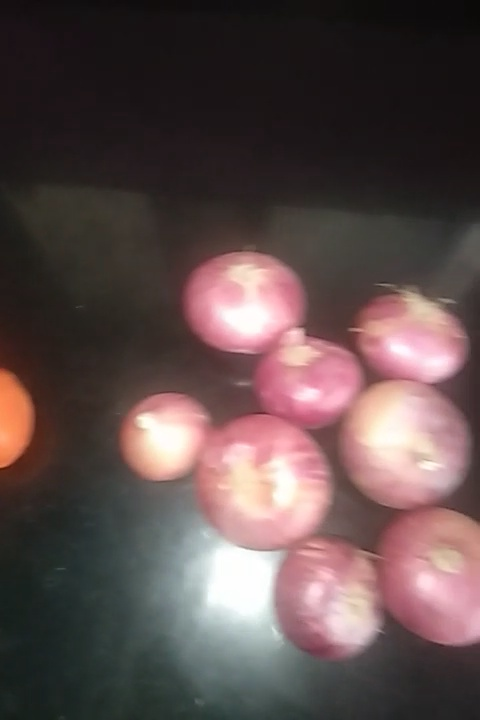onion: (198, 406, 330, 548), (343, 379, 469, 513), (364, 506, 480, 645), (268, 534, 376, 664), (346, 283, 475, 391), (185, 253, 308, 352), (258, 335, 357, 424), (113, 393, 204, 487)
tomato: (1, 371, 46, 474)
